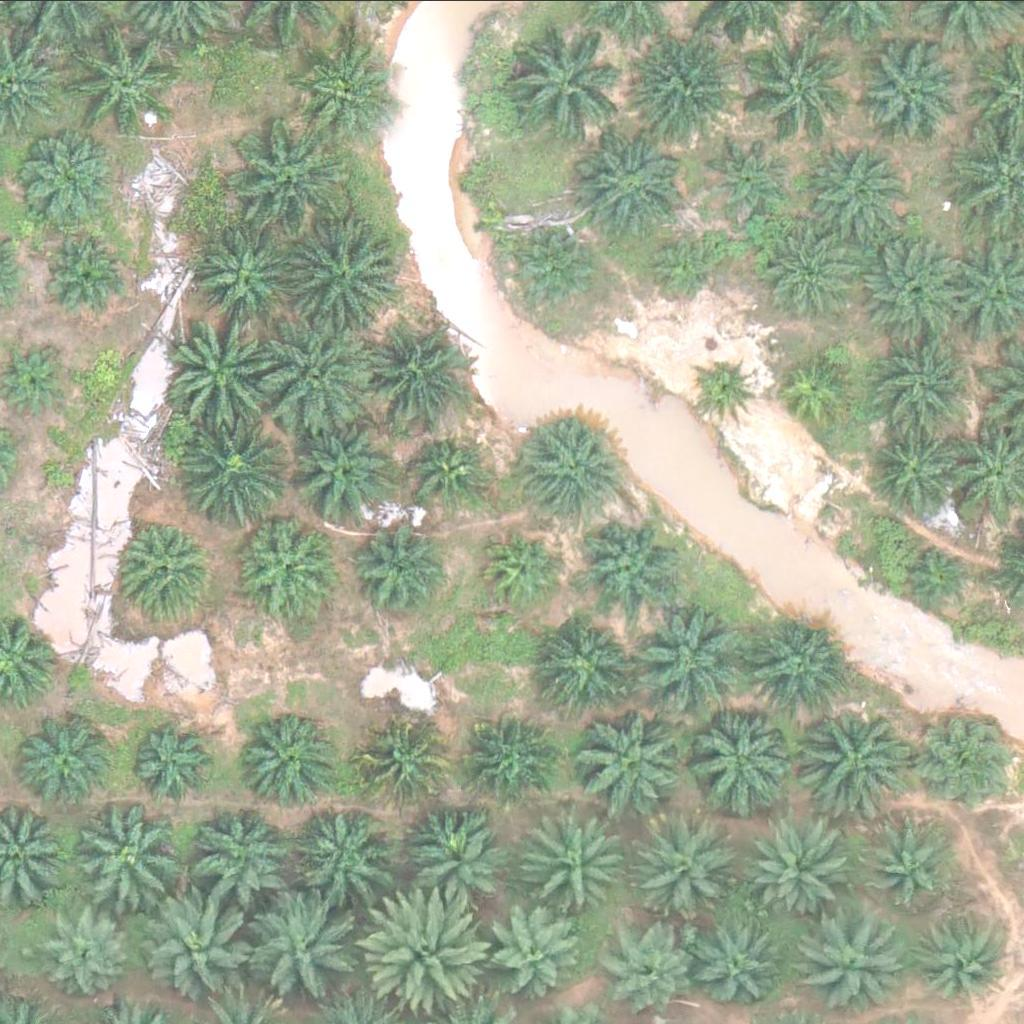Kelapa_Sawit: (363, 883, 489, 1008), (287, 221, 401, 334), (241, 893, 355, 1006), (505, 24, 618, 137), (578, 130, 691, 243), (856, 232, 969, 345), (629, 604, 742, 717), (573, 703, 686, 816), (684, 699, 797, 812), (183, 414, 296, 527), (72, 799, 185, 912), (147, 886, 260, 999), (736, 26, 850, 138), (633, 35, 746, 147), (229, 122, 342, 234), (262, 314, 375, 426), (796, 701, 909, 813), (66, 21, 179, 133), (166, 315, 279, 427), (861, 43, 962, 143), (292, 426, 393, 526), (812, 143, 913, 243), (878, 335, 979, 435), (869, 420, 970, 520), (750, 618, 851, 718), (234, 706, 335, 806), (293, 799, 394, 899), (530, 813, 631, 913), (642, 818, 743, 918), (750, 822, 851, 922), (193, 227, 294, 327), (302, 38, 402, 138), (367, 328, 467, 428), (527, 418, 627, 518), (760, 220, 860, 320), (235, 515, 335, 615), (580, 512, 680, 612), (200, 804, 300, 904), (400, 814, 500, 914), (802, 911, 902, 1011), (18, 129, 118, 229), (120, 517, 220, 617), (20, 709, 120, 809), (706, 132, 794, 220), (514, 227, 602, 315), (352, 530, 440, 618), (547, 619, 635, 707), (358, 719, 446, 807), (610, 926, 698, 1014), (47, 229, 135, 317), (127, 720, 215, 808), (697, 924, 786, 1011), (466, 717, 554, 804), (868, 817, 956, 904), (917, 915, 1005, 1002), (490, 909, 578, 996), (46, 903, 134, 990), (483, 531, 559, 606), (409, 436, 484, 511), (645, 228, 720, 303), (783, 352, 858, 427), (907, 537, 982, 612), (696, 355, 759, 418)
